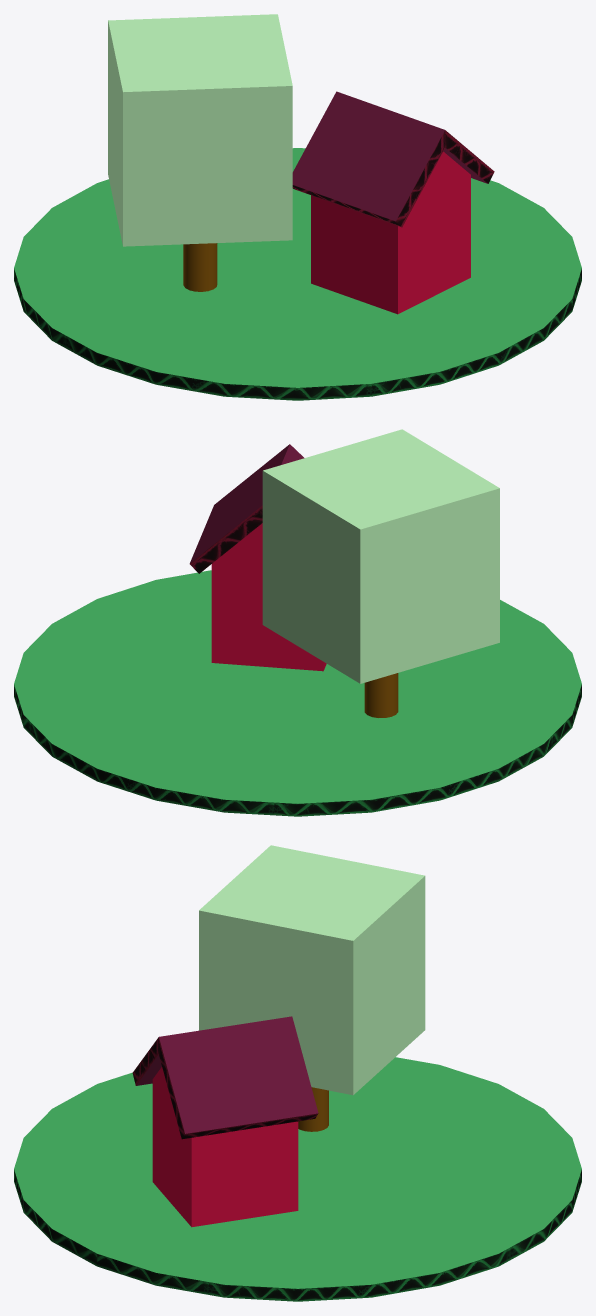
The model's file is Test_Diorama.FBX.
3 views of the same model, one above another, from view 1: azimuth 30°, elevation 25°; view 2: azimuth 150°, elevation 25°; view 3: azimuth 270°, elevation 25° (orthographic).
Parts seen in each view (by area): view 1: Base, Tree, House; view 2: Base, Tree, House; view 3: Base, Tree, House.
Part boxes in pixels (bbox=[...]): Base: bbox=[14, 148, 581, 400]; Tree: bbox=[108, 14, 292, 291]; House: bbox=[292, 91, 494, 314]; Base: bbox=[14, 570, 581, 816]; Tree: bbox=[262, 429, 499, 717]; House: bbox=[189, 444, 326, 671]; Base: bbox=[14, 1057, 581, 1301]; Tree: bbox=[199, 845, 425, 1131]; House: bbox=[132, 1016, 318, 1227].
Size of the model in its own units: 100 by 100 by 47.5.
